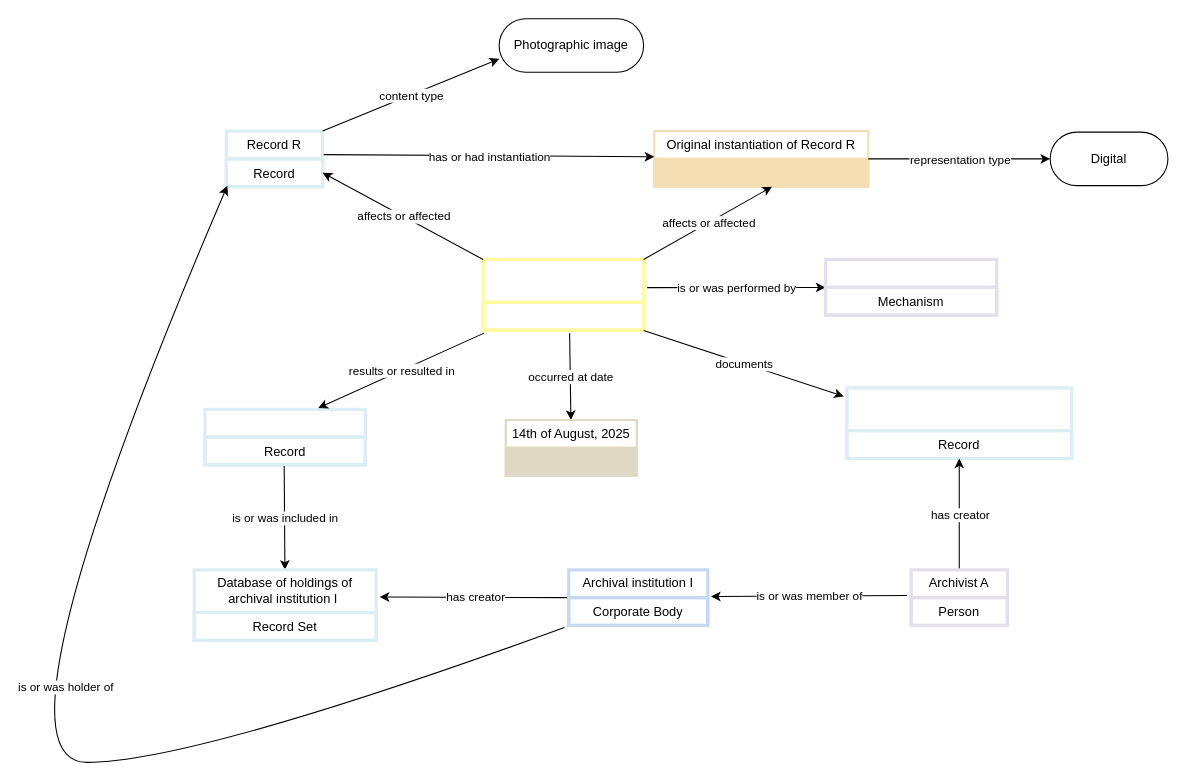
This 1188x782 diagram has some shape labels left out. The shapes that lost their labels are listed below. From the top down, each one's box as (x1, y1, x2, y2) in pixels, then its label:
(653, 157, 869, 187): Instantiation
(481, 257, 645, 331): Creation of description of Record R
(823, 257, 998, 316): Generative AI Chatbot C
(481, 300, 645, 331): Activity
(203, 407, 366, 466): Description of Record A
(845, 386, 1073, 460): Prompt fed to chatbot C to create description of Record A
(504, 446, 637, 476): Date
